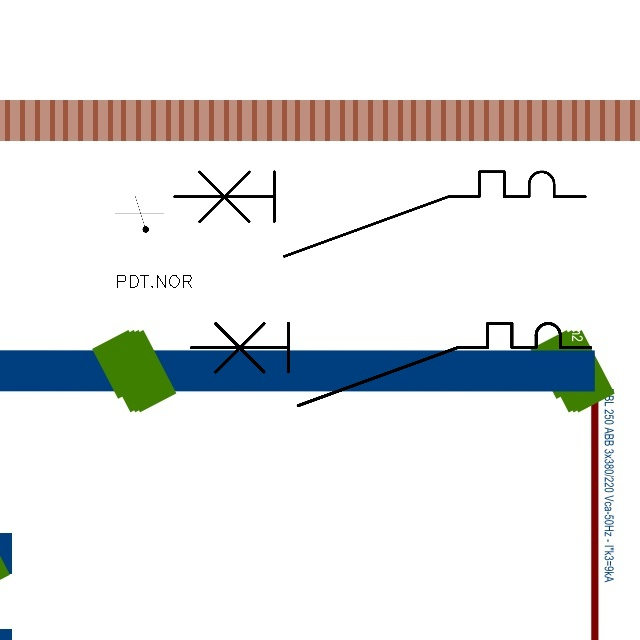interruptor_termomagnetico: (163, 161, 595, 267), (181, 313, 601, 415)
